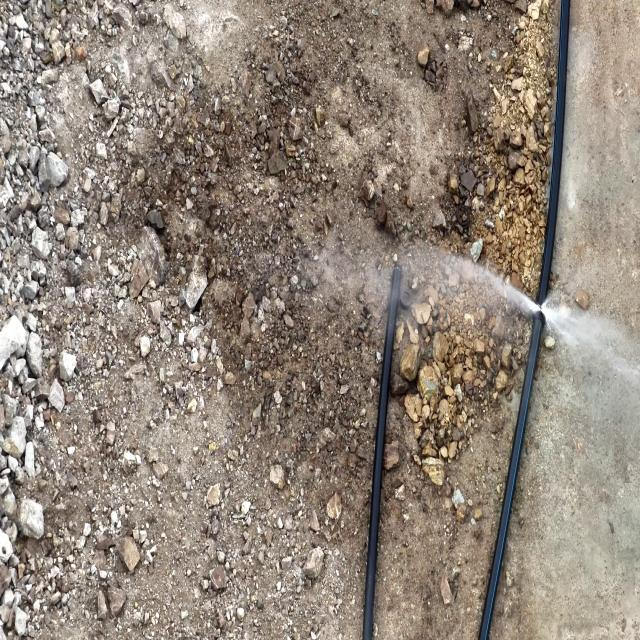leak: (422, 237, 609, 362)
